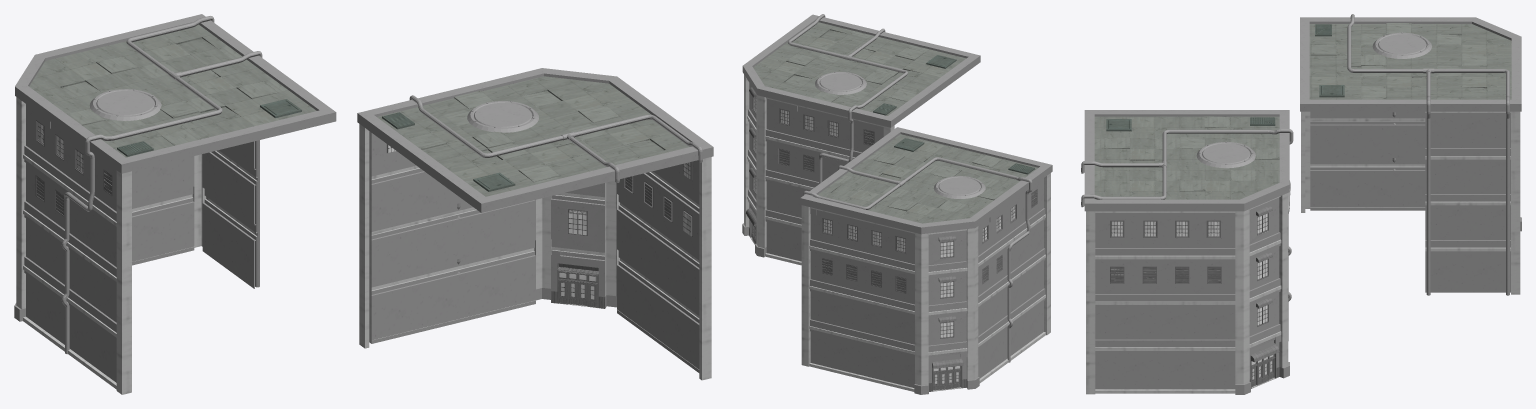
The model's file is MERGED_SM_ENV_KNVLLG_CommonBuilding_G_1.mo.fbx.
The picture shows the model from 3 angles, left to right: view 1: azimuth 30°, elevation 25°; view 2: azimuth 150°, elevation 25°; view 3: azimuth 270°, elevation 25°; orthographic projection. The views are drawn at different scales.
Parts seen in each view (by area): view 1: MERGED_SM_ENV_KNVLLG_CommonBuilding_G_1.mo; view 2: MERGED_SM_ENV_KNVLLG_CommonBuilding_G_1.mo; view 3: MERGED_SM_ENV_KNVLLG_CommonBuilding_G_1.mo.
Part boxes in pixels (x1,y1,x2,y2): MERGED_SM_ENV_KNVLLG_CommonBuilding_G_1.mo: [14, 14, 713, 394]; MERGED_SM_ENV_KNVLLG_CommonBuilding_G_1.mo: [742, 14, 1052, 394]; MERGED_SM_ENV_KNVLLG_CommonBuilding_G_1.mo: [1081, 14, 1521, 394].
Bounding box in the file's own units: 52.76 × 25.44 × 52.29.
